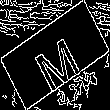M_NW: (27, 21, 83, 89)
